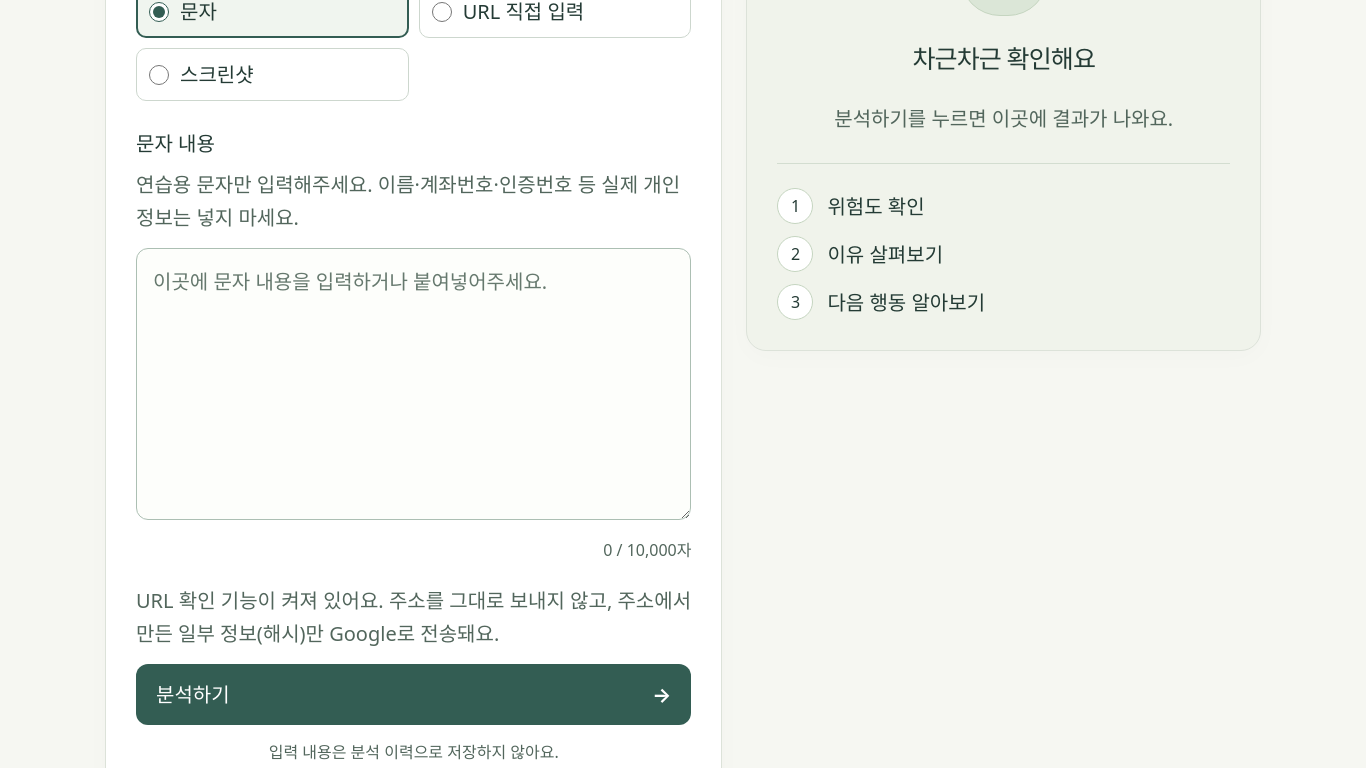
Test: 문자만 전송하고 근거를 표시한다. 다시 수정하면 이전 결과를 지운다
The image size is (1366, 768).
(page scrolled)
Type "<script>수정한 문자</script>" into the text box labelled "문자 내용" at (414, 384), box [136,248,692,520]
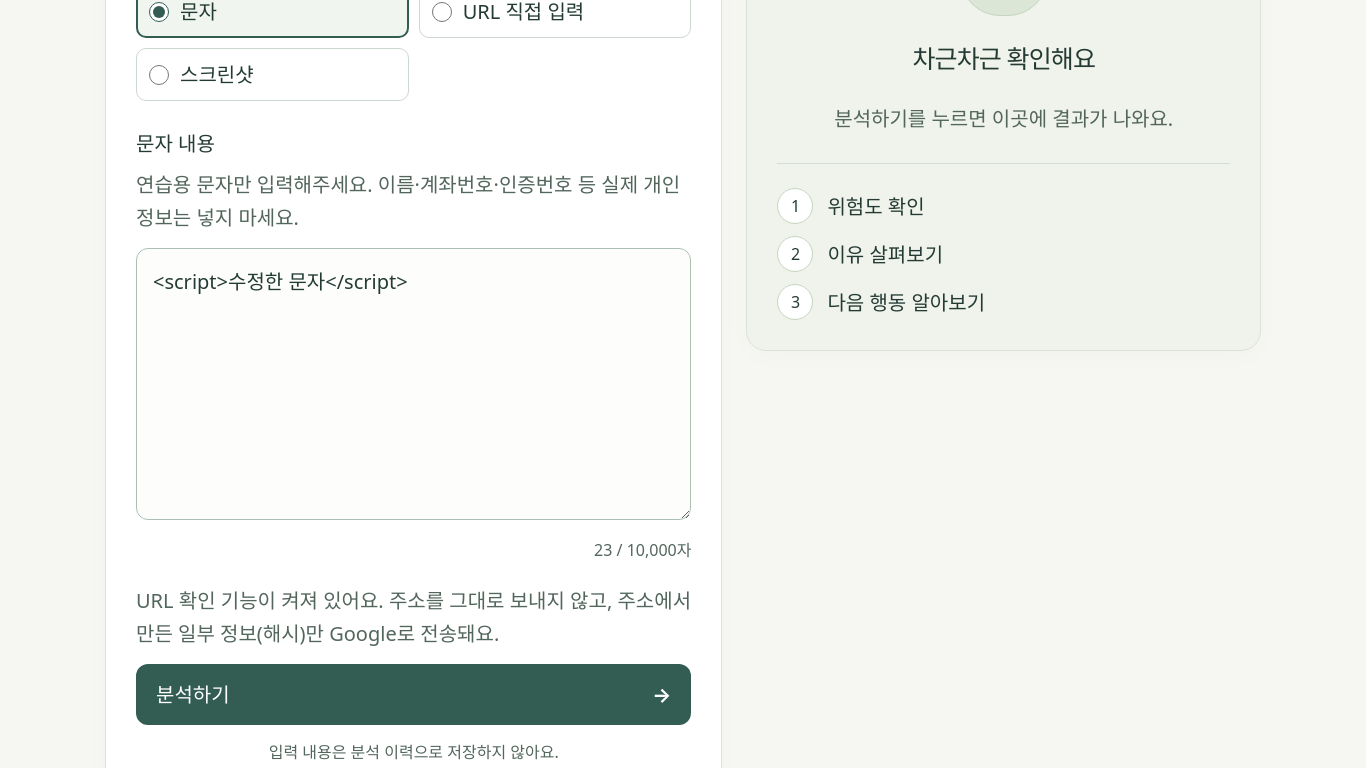
Click the button "분석하기 →" at (193, 694), box [136,664,692,725]
(page scrolled)
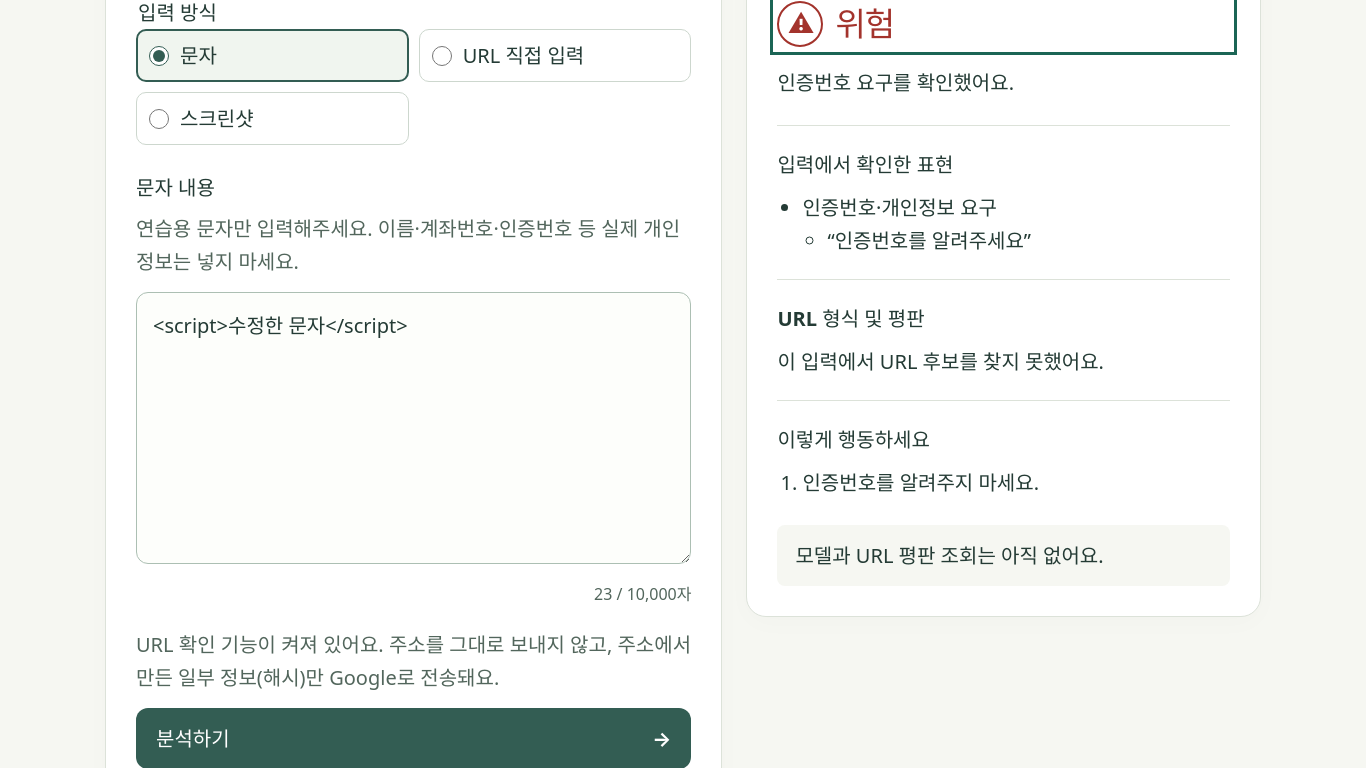
expect the heading "⚠ 위험" is shown: met, box [778,1,894,47]
expect the text "인증번호 요구를 확인했어요." is shown: met, box [778,69,1014,96]
expect the text "인증번호를 알려주세요" is shown: met, box [828,227,1031,254]
Replace the text in the text box labelled "문자 내용" with "새 문자" at (414, 428), box [136,292,692,564]
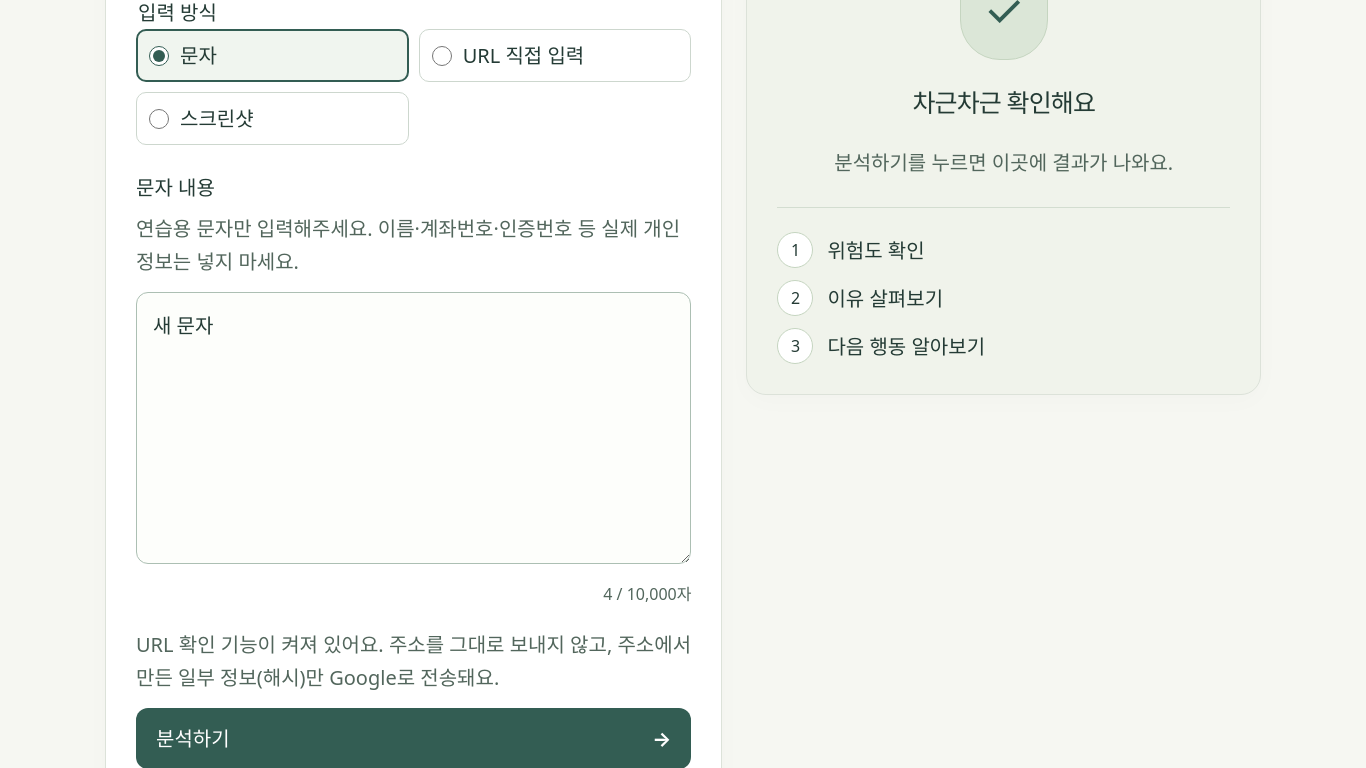
expect the text "인증번호 요구를 확인했어요." is gone: met
